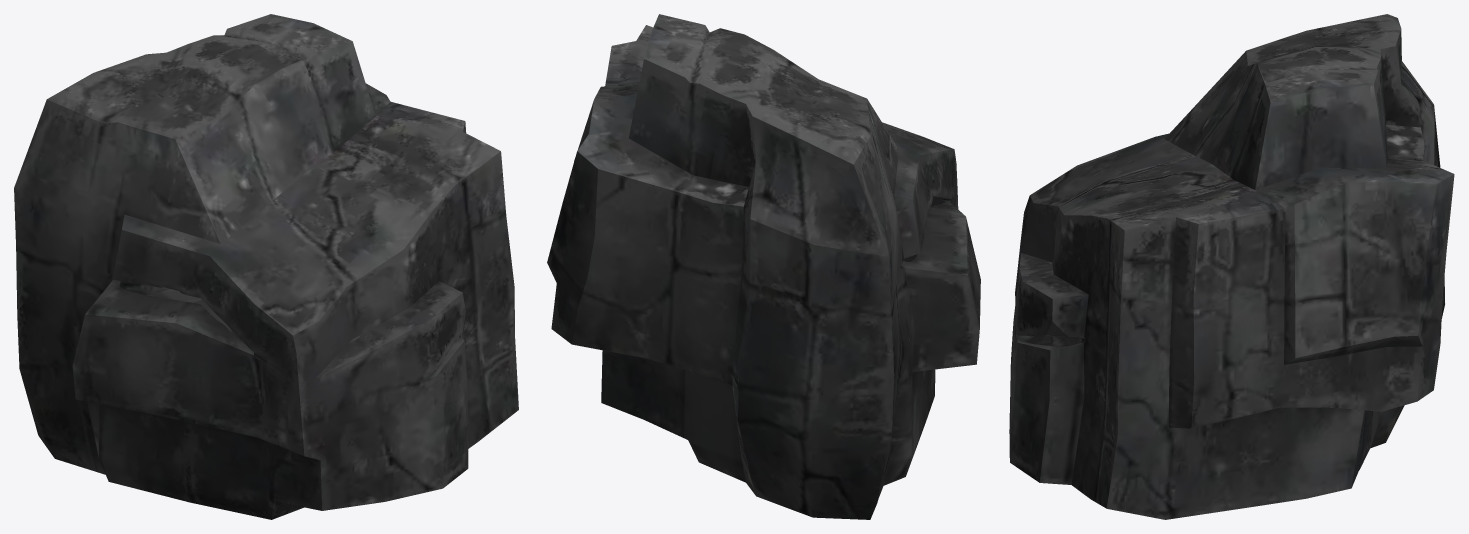
3 renders of one model, left to right at view 1: azimuth 30°, elevation 25°; view 2: azimuth 150°, elevation 25°; view 3: azimuth 270°, elevation 25°, orthographic. The views are drawn at different scales.
Visible parts, largest first — view 1: SM_Charcoal_01_LOD0; view 2: SM_Charcoal_01_LOD0; view 3: SM_Charcoal_01_LOD0.
Part boxes in pixels (bbox=[...]): SM_Charcoal_01_LOD0: bbox=[14, 14, 518, 519]; SM_Charcoal_01_LOD0: bbox=[547, 14, 980, 519]; SM_Charcoal_01_LOD0: bbox=[1009, 14, 1454, 519].
Size of the model in its own units: 0.3355 by 0.3285 by 0.3106.
1 material, 1 textured.
